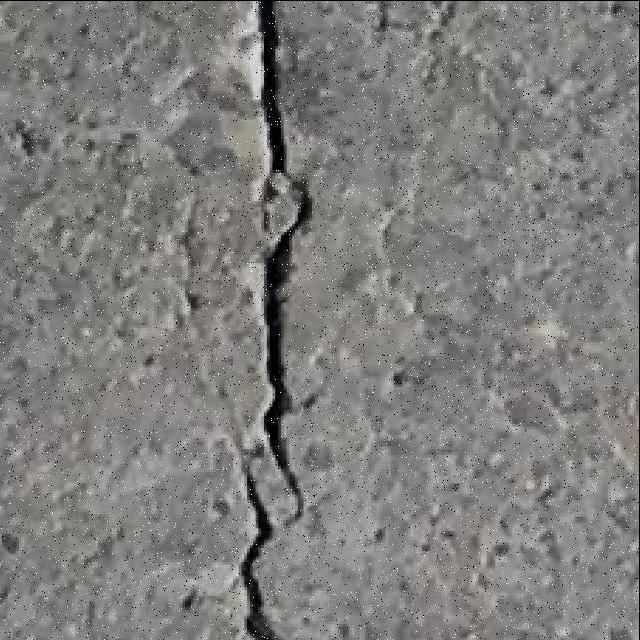Crack: (235, 1, 306, 637)
